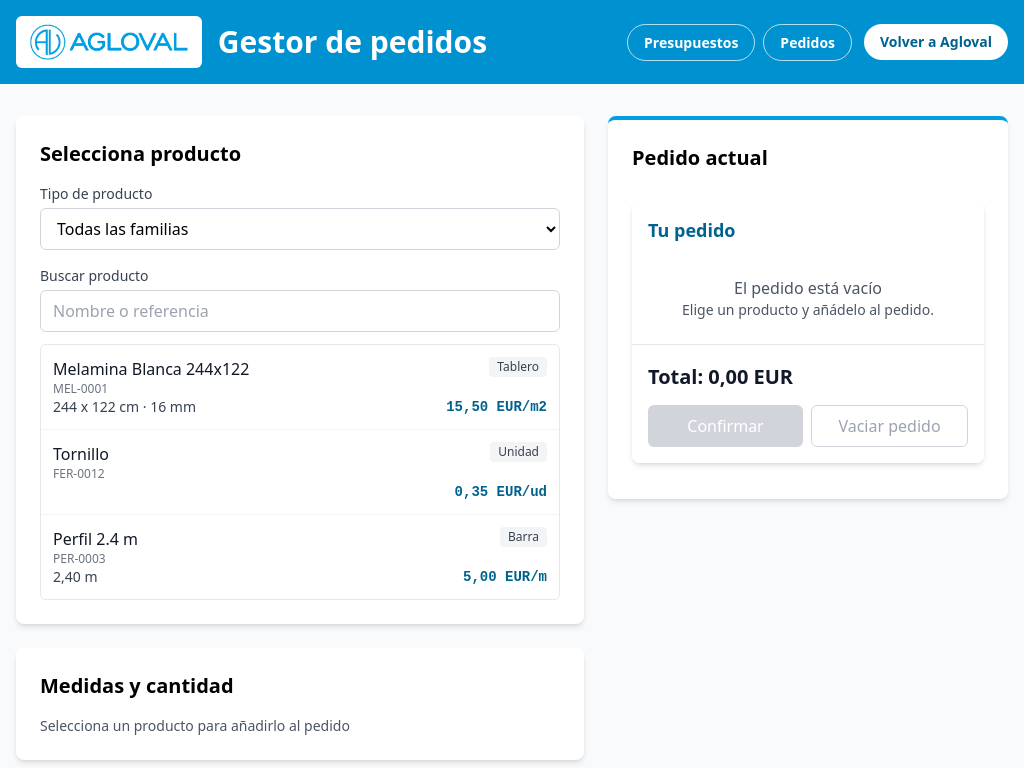
Test: CuttingCalculator page › debounces the search text and shows the family list again when it is cleared
The width and height of the screenshot is (1024, 768).
Expected: the text "Melamina Blanca 244x122" is shown, [53, 357, 249, 381]
Type "torn" into the search field with test id "product-search".
click(300, 311); type("torn")  # box [40, 290, 560, 332]
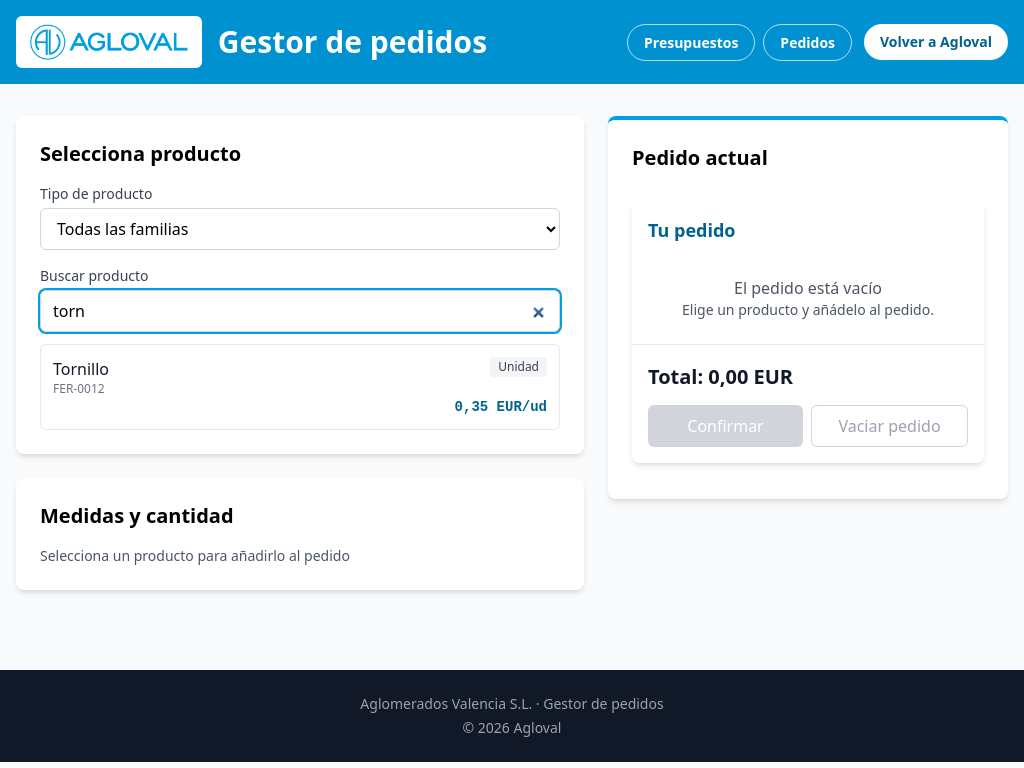
Clear the search field with test id "product-search" at (300, 311), box [40, 290, 560, 332]
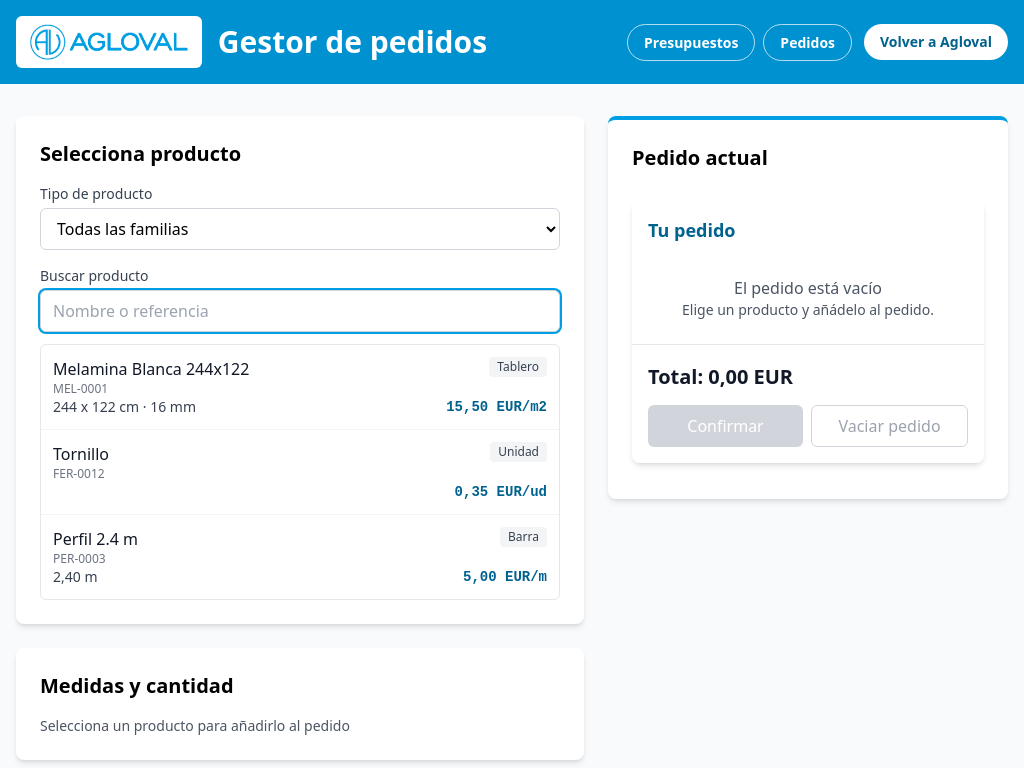
Now the text "Melamina Blanca 244x122" is shown, box [53, 357, 249, 381]
